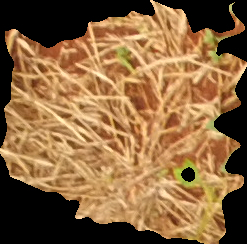soil: (2, 4, 244, 241)
